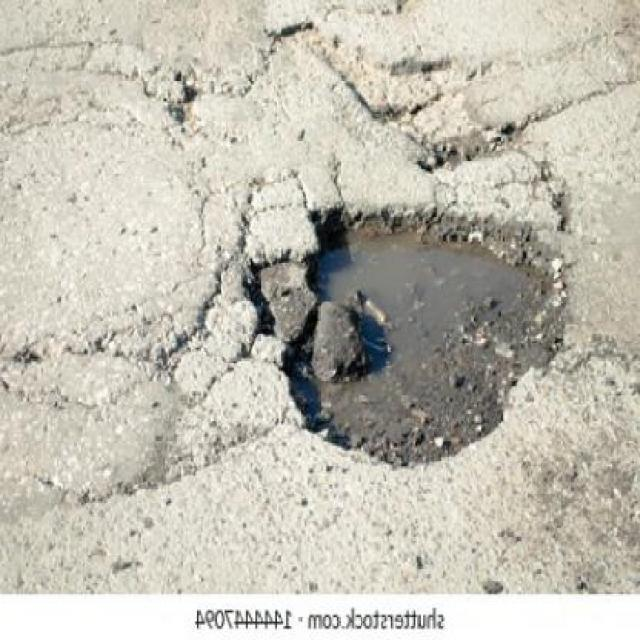Pothole: (240, 201, 573, 472)
